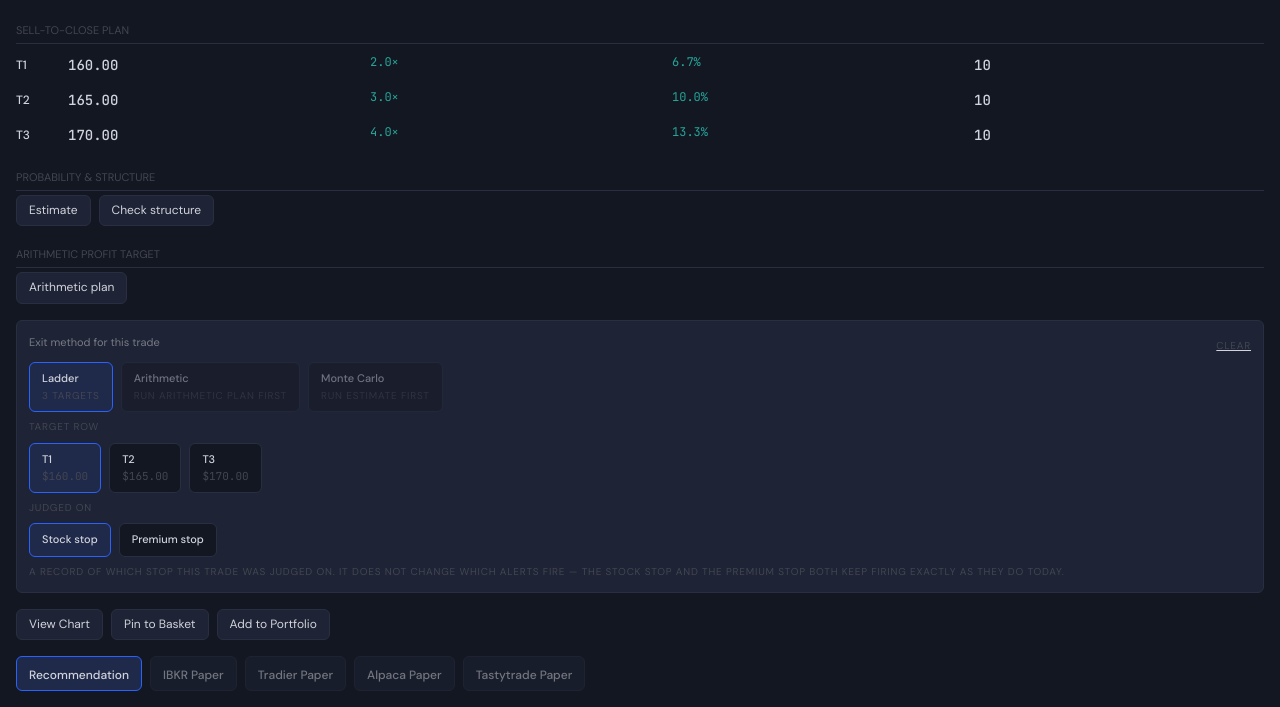
Scenario: StockPositionCard — Add to Portfolio outcome states › shows a distinct Queued state (not "Added") when the backend is unreachable
The width and height of the screenshot is (1280, 707).
(page scrolled)
Click the button "Add to Portfolio": (273, 624) [216,609,330,640]
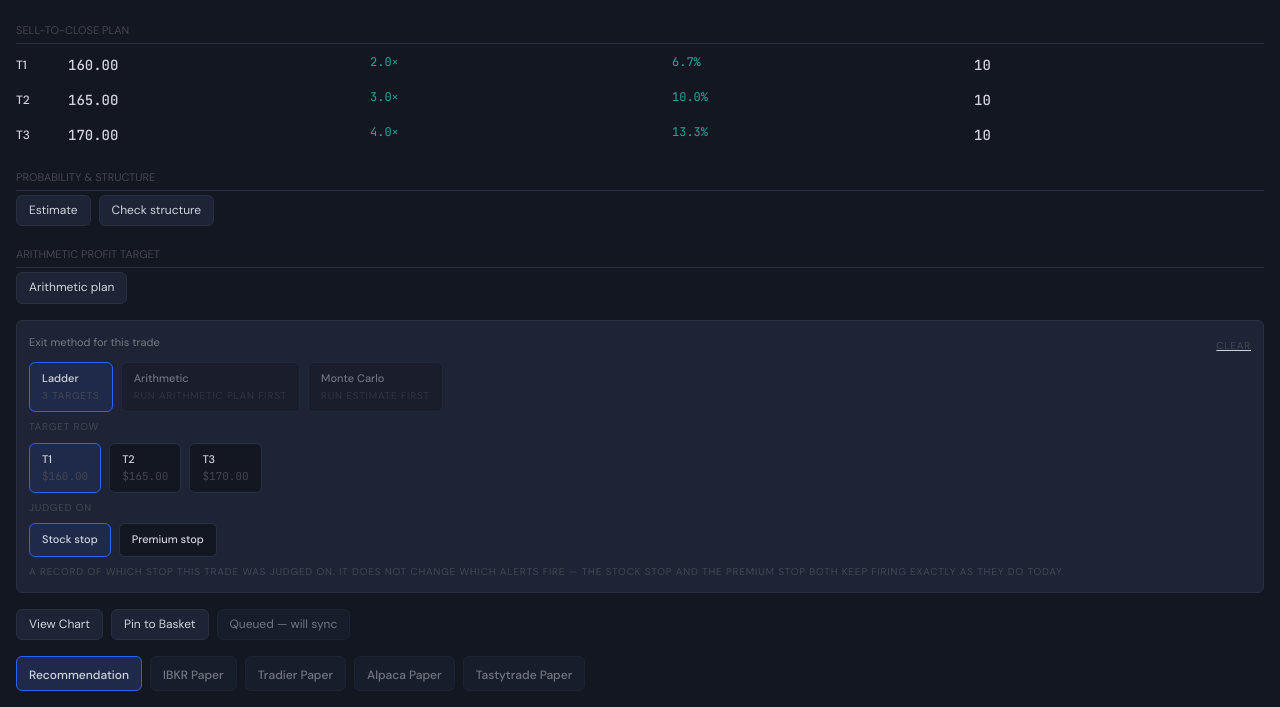
Result: the button "Queued — will sync" is disabled at [216,609,350,640]
